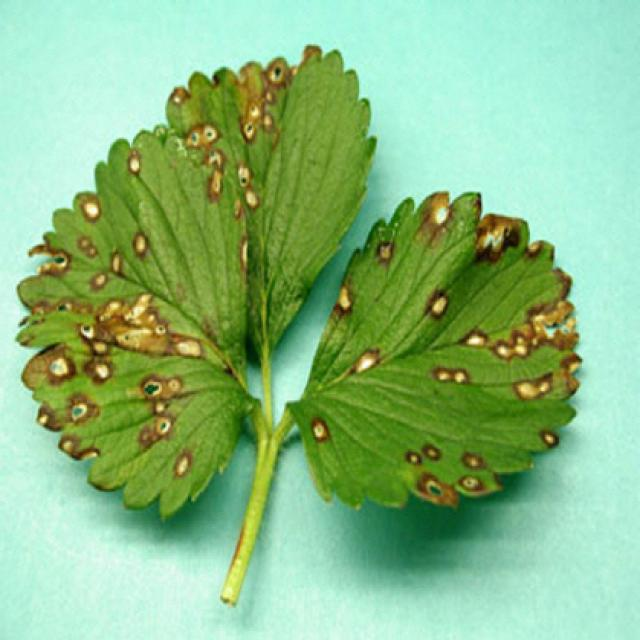Leaf Spot: (11, 128, 261, 529), (284, 189, 585, 513), (152, 44, 379, 368)
